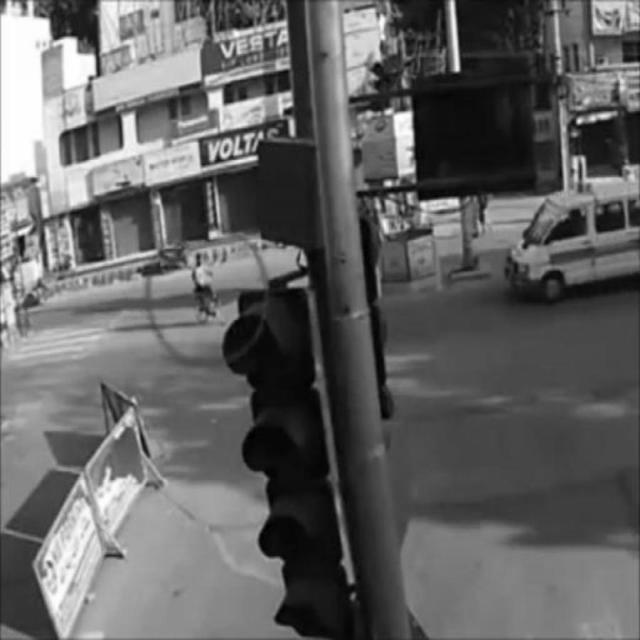vehicle: (504, 182, 638, 293), (189, 247, 229, 327)
